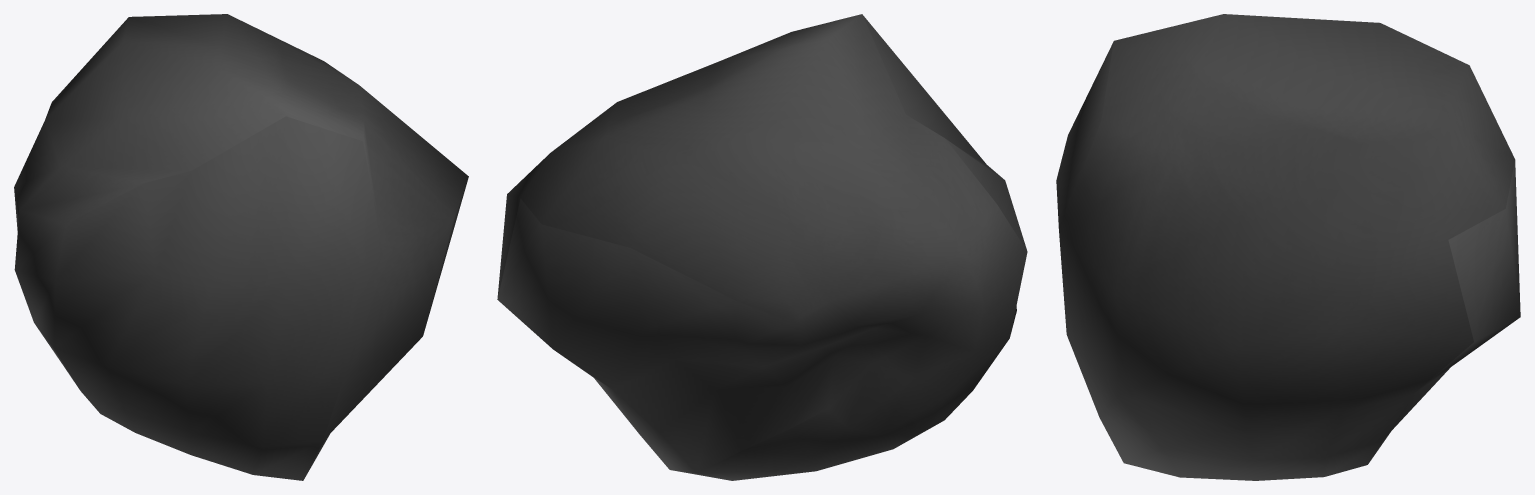
Rendered from Roca2.fbx.
The picture shows the model from 3 angles, left to right: view 1: azimuth 30°, elevation 25°; view 2: azimuth 150°, elevation 25°; view 3: azimuth 270°, elevation 25°; orthographic projection. The views are drawn at different scales.
Parts seen in each view (by area): view 1: Cube.002; view 2: Cube.002; view 3: Cube.002.
Part boxes in pixels (x1,y1,x2,y2): Cube.002: (14, 14, 468, 480); Cube.002: (497, 14, 1027, 480); Cube.002: (1056, 14, 1520, 480).
Size of the model in its own units: 44.84 by 39.08 by 37.97.
